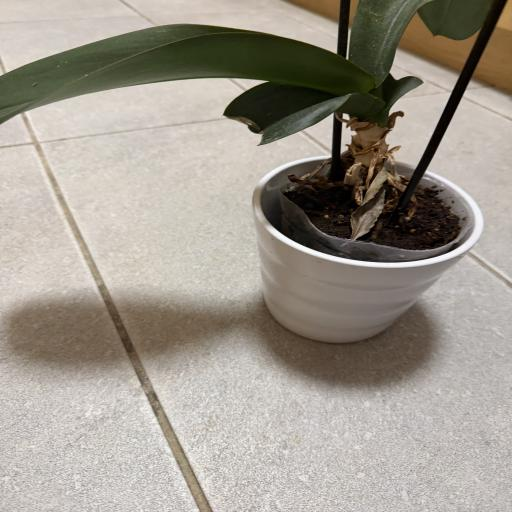Plant Pot: (250, 152, 486, 345)
